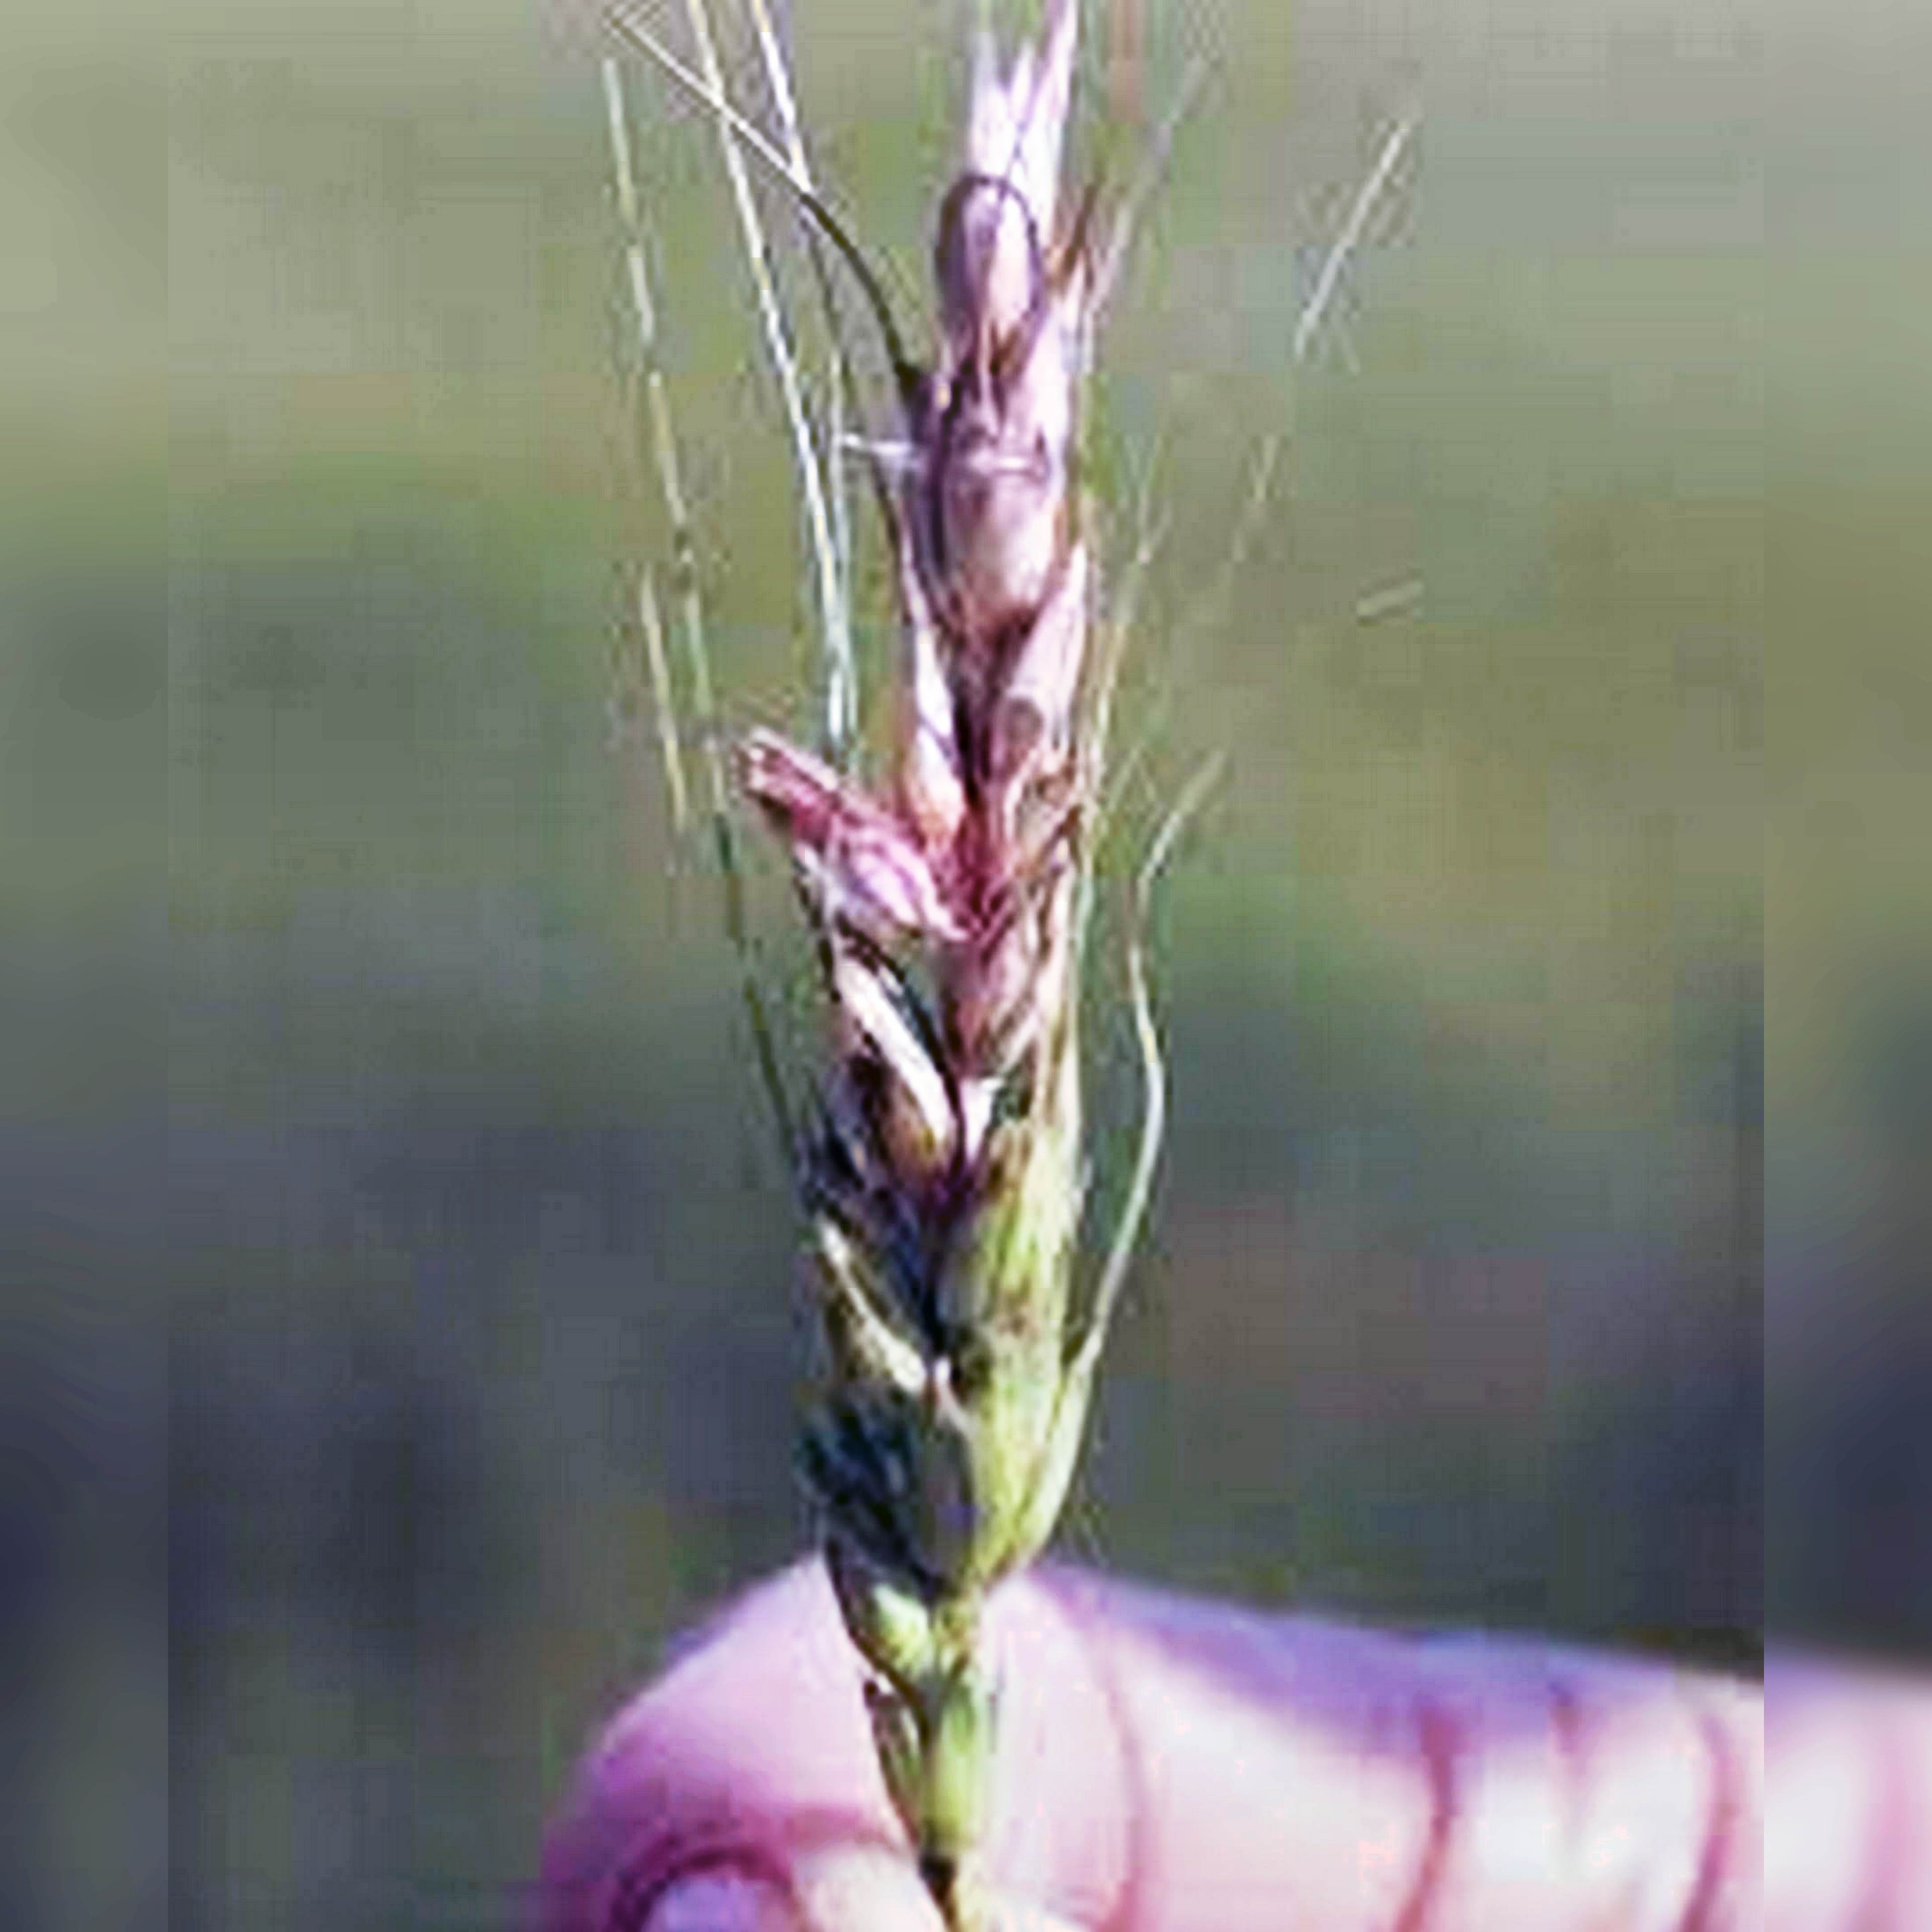Wheat scab: (727, 156, 1254, 1679)
